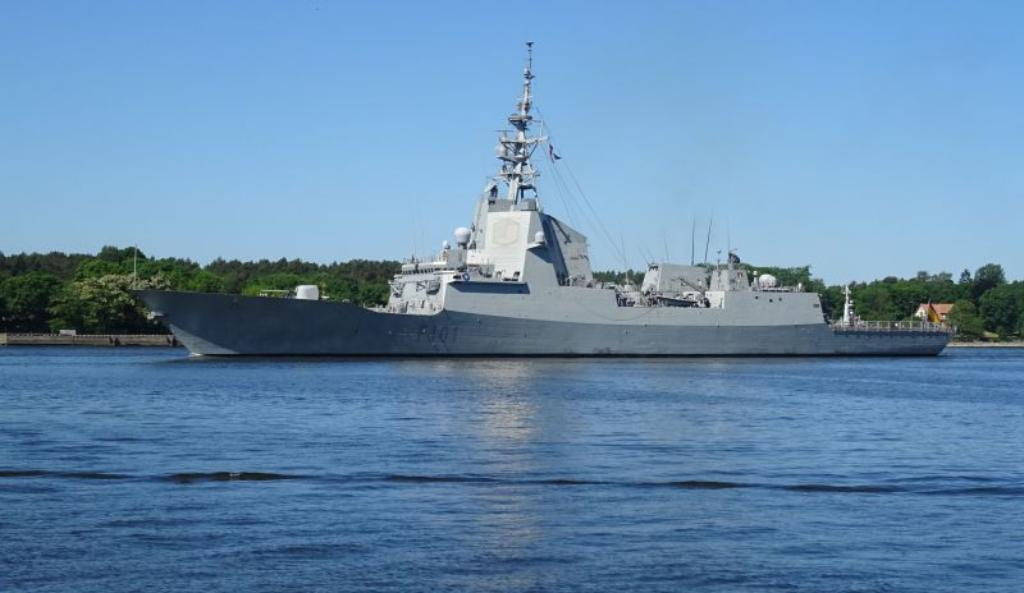Warship: (114, 38, 960, 362)
